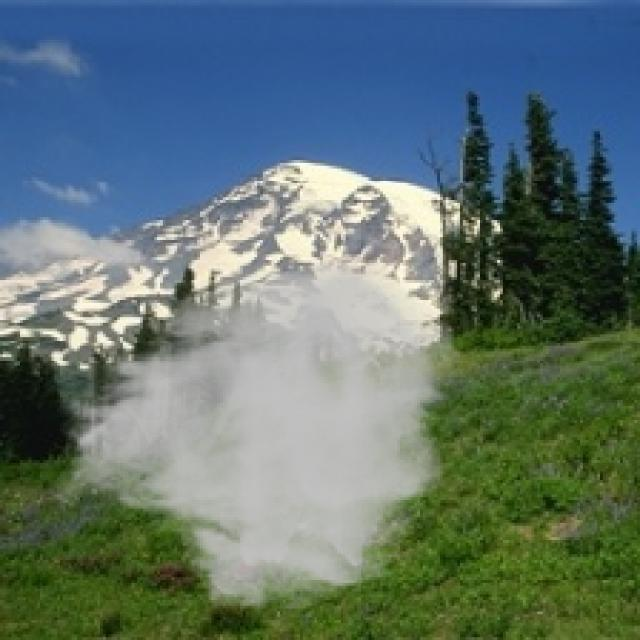Smoke: (46, 255, 466, 614)
